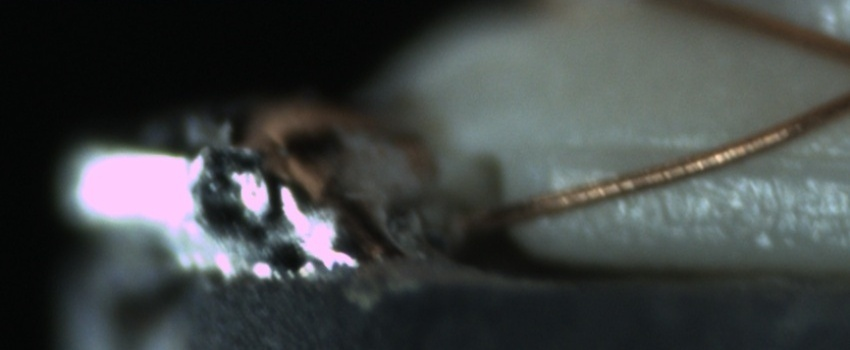DL: (537, 118, 845, 187)
